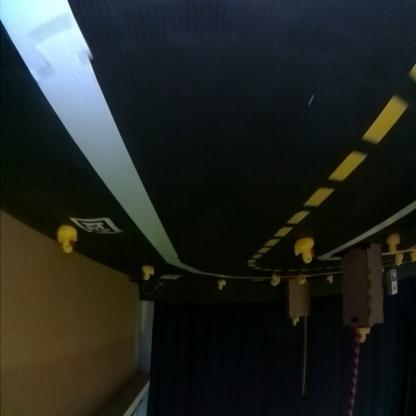Duckie: (58, 227, 78, 254), (295, 241, 315, 263), (388, 235, 400, 253), (360, 329, 370, 344), (144, 268, 154, 281), (272, 275, 280, 287), (396, 255, 404, 266), (219, 281, 226, 291), (300, 277, 306, 285), (294, 319, 300, 327)
QR code: (70, 218, 122, 235)
